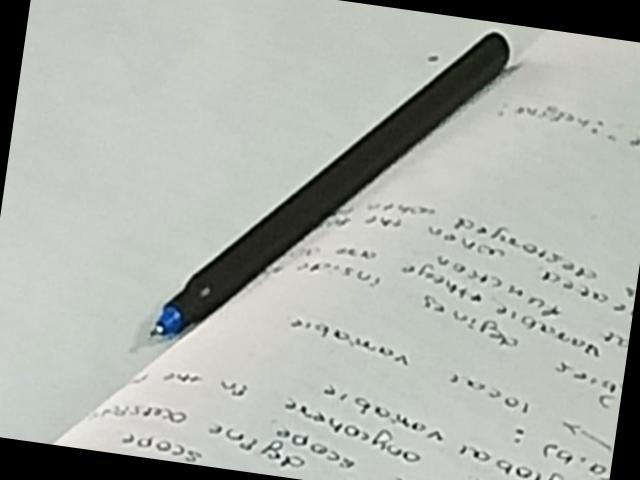PEN: (134, 19, 520, 360)
